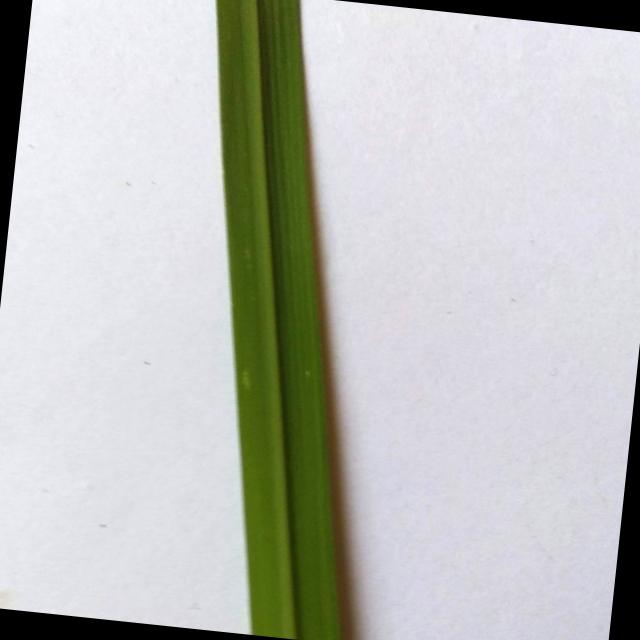Rice_Healthy: (216, 0, 341, 640)
